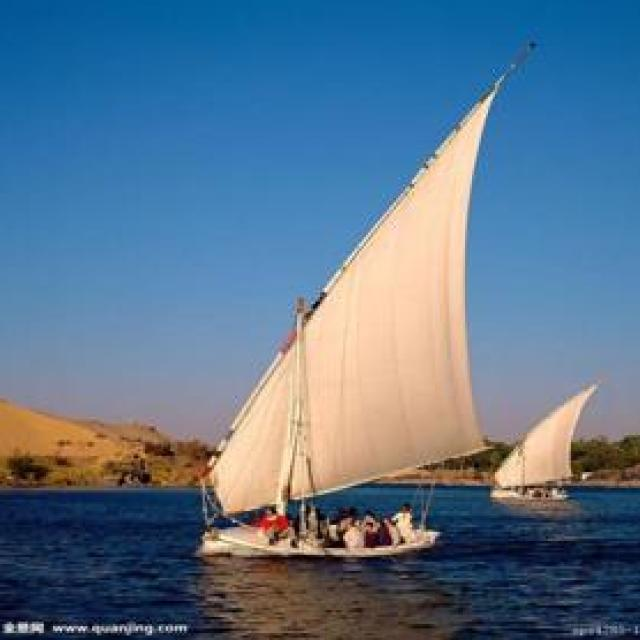sailboat: (199, 35, 536, 559), (493, 377, 597, 510)
